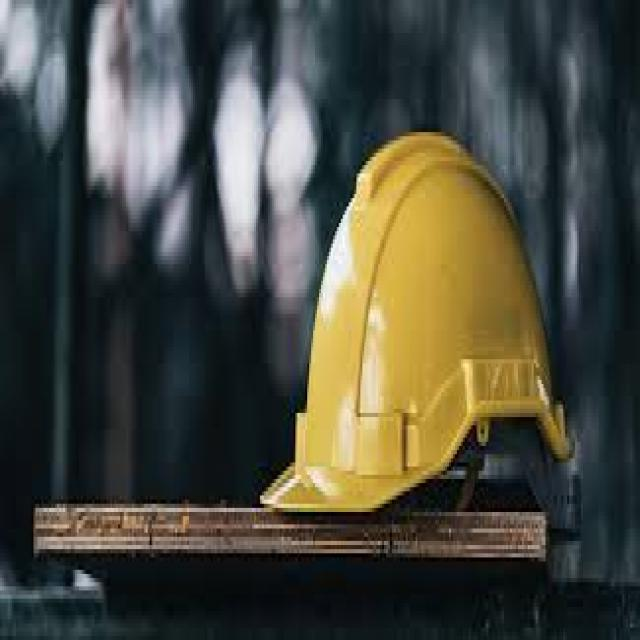Safety-Helmet: (254, 116, 605, 520)
